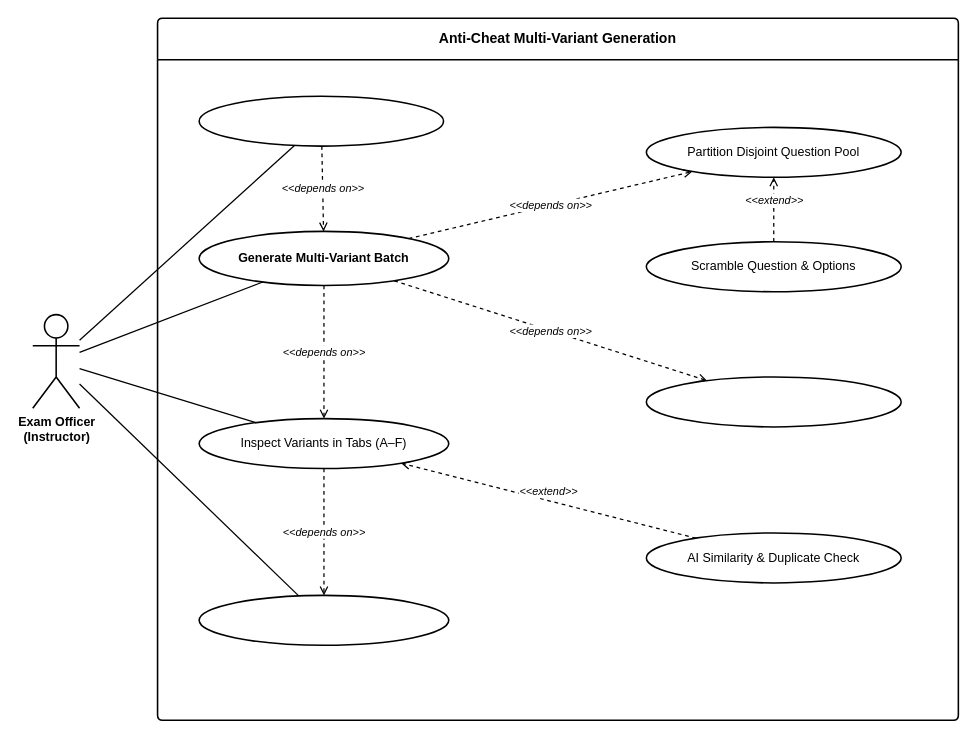
Some shapes in this 978 by 739 pixel diagram are drawn without their labels. Each missing label, with the centre of its shape:
"Batch Export All Parallel Papers" goes at [323,620].
"Set Variant Count (2 to 6 Sets)" goes at [321,120].
"Verify Cognitive & Mark Parity" goes at [773,401].
